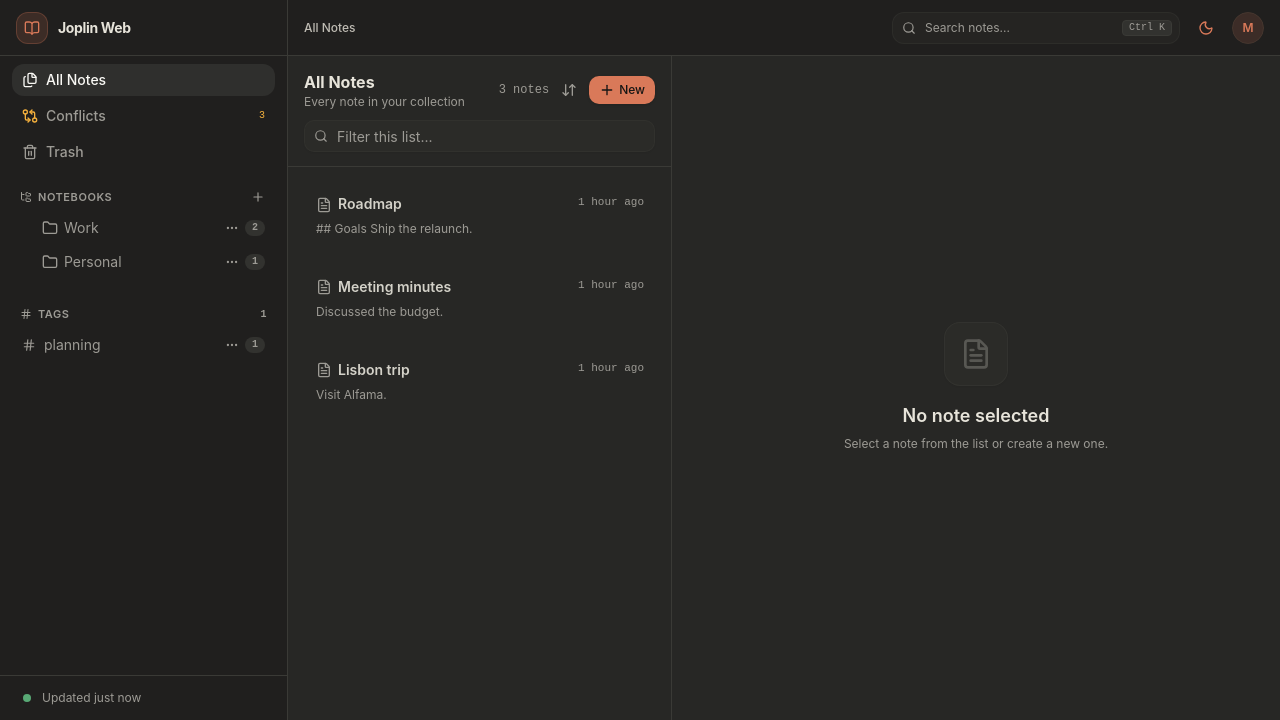
Test case: NotesPage › lists all notes and opens one from the list
The width and height of the screenshot is (1280, 720).
Check: the heading "Roadmap" is shown, box [338,194,402,213]
Check: the heading "Lisbon trip" is shown, box [338,360,410,379]
Click the heading "Meeting minutes" at [395, 286], box [338,277,451,296]
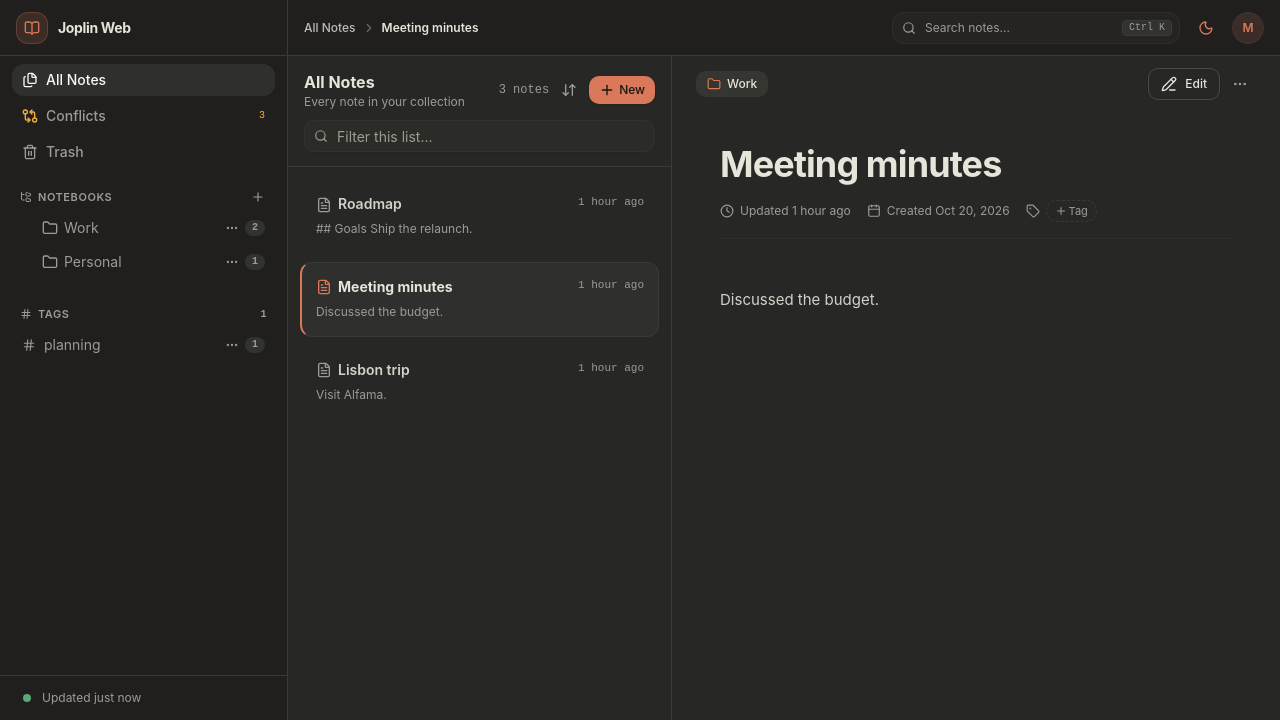
Check: the 1st heading "Meeting minutes" is shown, box [720,144,1001,186]
